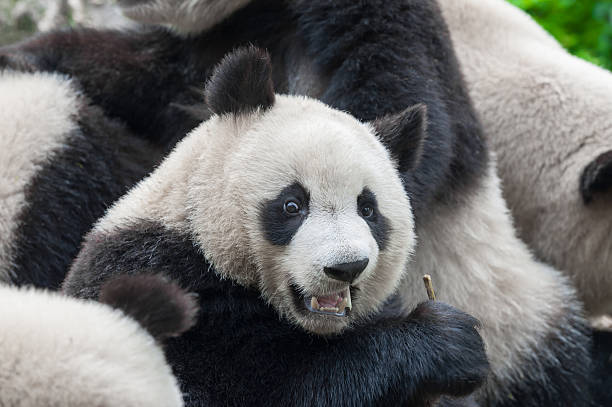panda: (149, 34, 455, 372)
